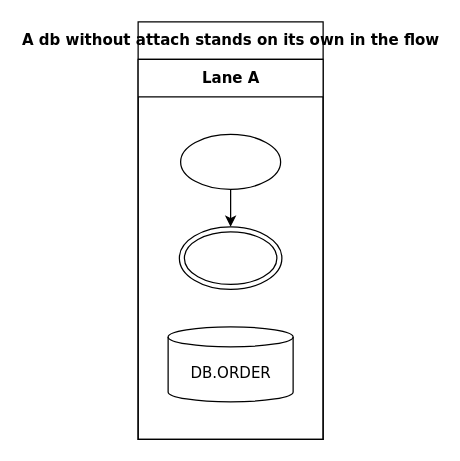
Image size: 460x461. Some labels were removed from this diagram. Each missing label, with the centre of its shape:
"Done" belongs at point 230,257.
"Enter" belongs at point 230,161.
